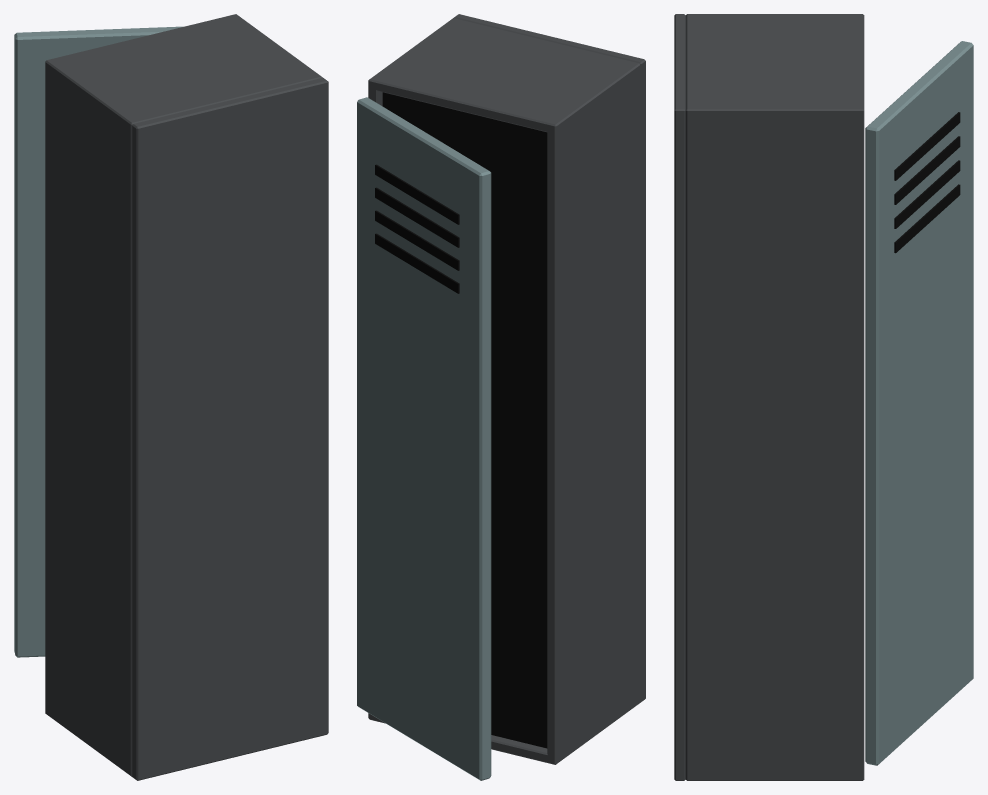
The model's file is concept_locker.glb.
3 views of the same model, side by side, from view 1: azimuth 30°, elevation 25°; view 2: azimuth 150°, elevation 25°; view 3: azimuth 270°, elevation 25° (orthographic). The views are drawn at different scales.
Visible parts, largest first — view 1: concept_locker; view 2: concept_locker; view 3: concept_locker.
Boxes of the visible parts, bbox=[...] form: concept_locker: bbox=[14, 14, 328, 780]; concept_locker: bbox=[357, 14, 645, 780]; concept_locker: bbox=[674, 14, 973, 780].
Size of the model in its own units: 0.6144 by 1.95 by 0.7873.
